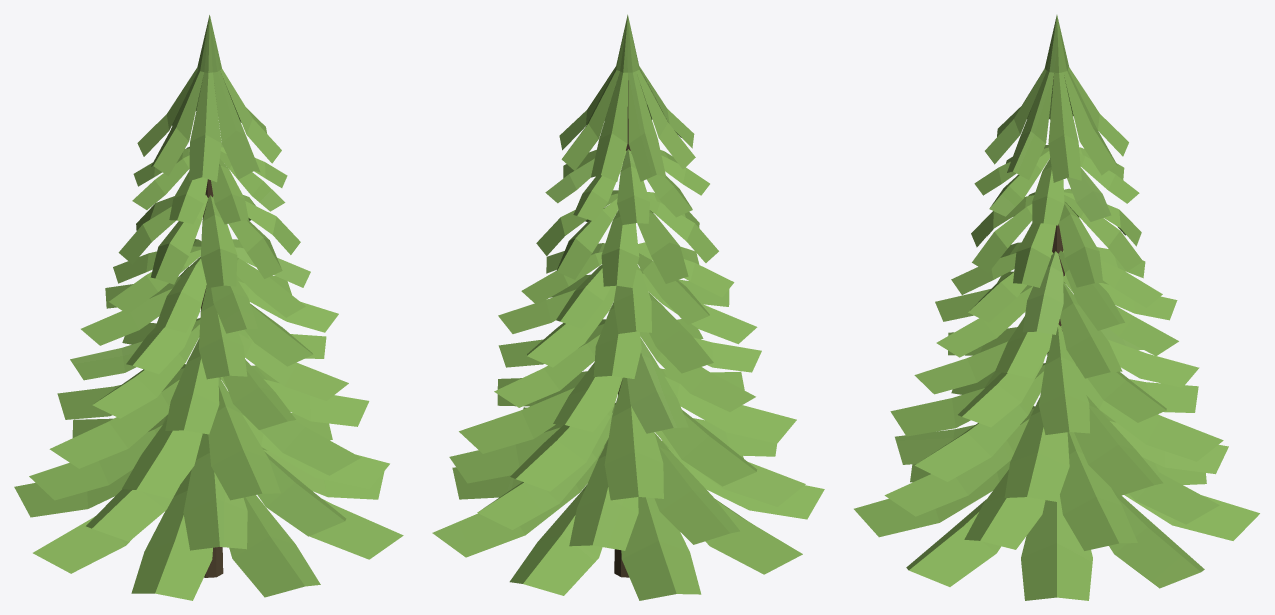
Rendered from Fir_Tree.glb.
3 views of the same model, side by side, from view 1: azimuth 30°, elevation 25°; view 2: azimuth 150°, elevation 25°; view 3: azimuth 270°, elevation 25° (orthographic).
Visible parts, largest first — view 1: Fir-tree; view 2: Fir-tree; view 3: Fir-tree.
Boxes of the visible parts, x1=… form: Fir-tree: x1=14, y1=15, x2=403, y2=600; Fir-tree: x1=432, y1=14, x2=824, y2=600; Fir-tree: x1=854, y1=15, x2=1259, y2=600.
Size of the model in its own units: 3.77 by 5.71 by 3.77.
Materials: 1 (1 with a texture image).
